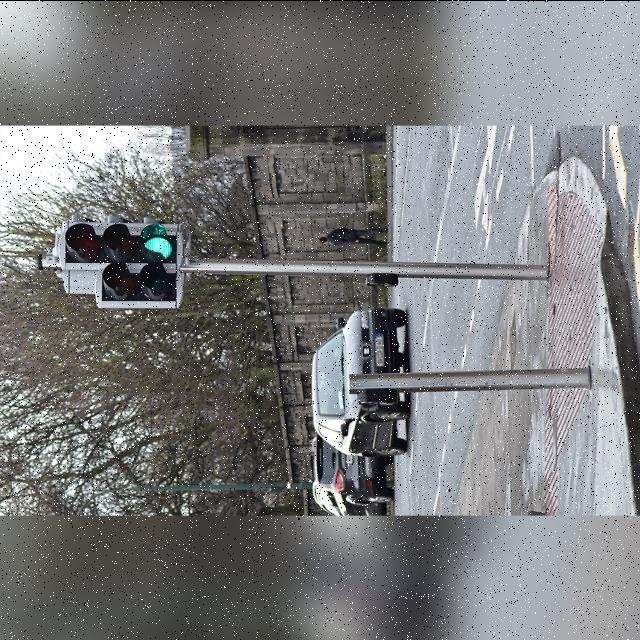green: (61, 224, 180, 264)
